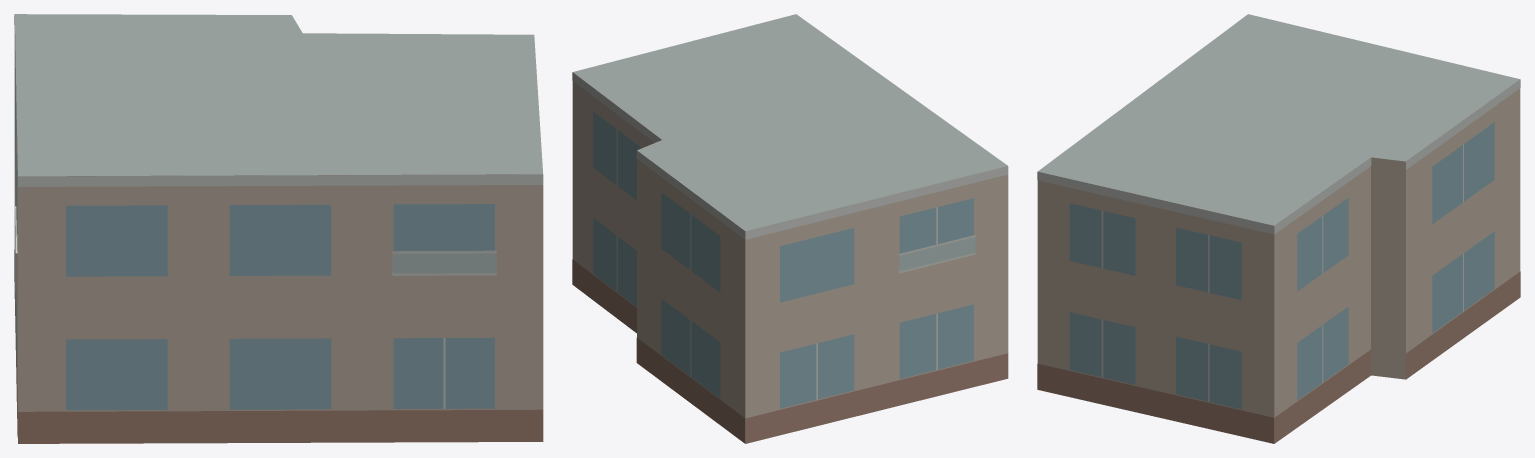
File: survey-upis-32680842.glb
3 renders of one model, left to right at view 1: azimuth 30°, elevation 25°; view 2: azimuth 150°, elevation 25°; view 3: azimuth 270°, elevation 25°, orthographic. The views are drawn at different scales.
Parts seen in each view (by area): view 1: survey-upis-32680842.tmp; view 2: survey-upis-32680842.tmp; view 3: survey-upis-32680842.tmp.
Boxes of the visible parts, x1,y1,x2,y2 form: survey-upis-32680842.tmp: [14, 14, 543, 443]; survey-upis-32680842.tmp: [572, 14, 1008, 443]; survey-upis-32680842.tmp: [1037, 14, 1520, 443].
Bounding box in the file's own units: 12.71 × 6.1 × 12.25.
